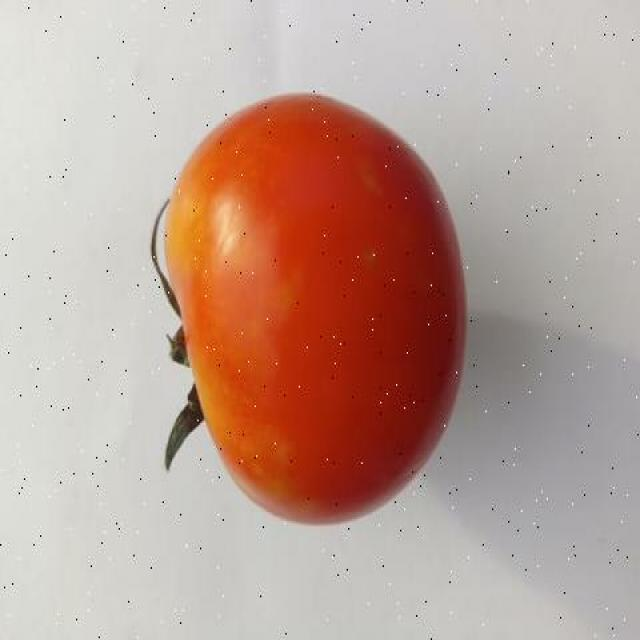tomato: (165, 94, 468, 521)
